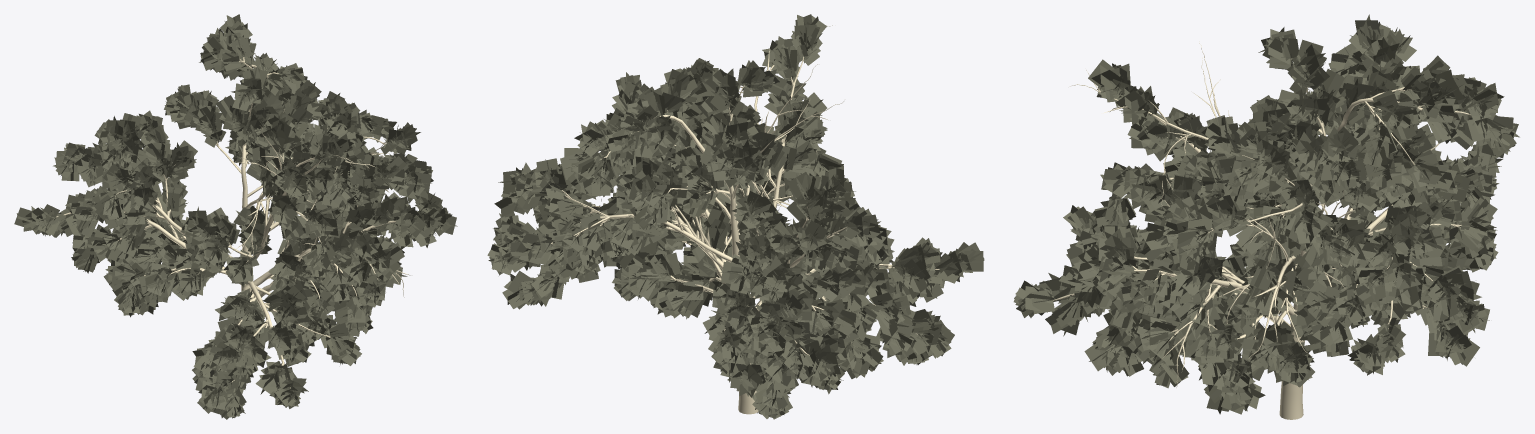
Rendered from oak_live.glb.
The picture shows the model from 3 angles, left to right: view 1: azimuth 30°, elevation 25°; view 2: azimuth 150°, elevation 25°; view 3: azimuth 270°, elevation 25°; orthographic projection. The views are drawn at different scales.
Visible parts, largest first — view 1: leaves, branches; view 2: leaves, branches; view 3: leaves, branches.
Part boxes in pixels (<box>): leaves: <box>14,14,457,419</box>; branches: <box>56,57,410,388</box>; leaves: <box>487,14,984,419</box>; branches: <box>551,25,939,414</box>; leaves: <box>1013,14,1519,414</box>; branches: <box>1053,41,1470,419</box>.
Size of the model in its own units: 87 by 70.71 by 84.59.
